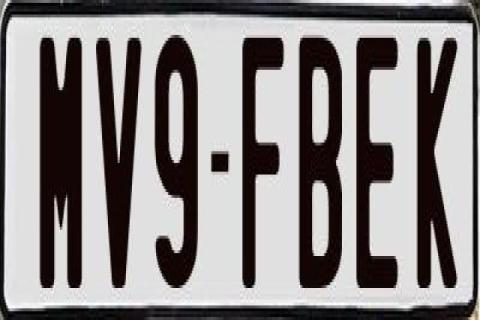0: (152, 29, 194, 297)
B: (297, 29, 347, 297)
E: (352, 35, 396, 291)
F: (240, 38, 280, 300)
K: (414, 29, 454, 291)
M: (40, 38, 88, 302)
V: (96, 38, 146, 300)
